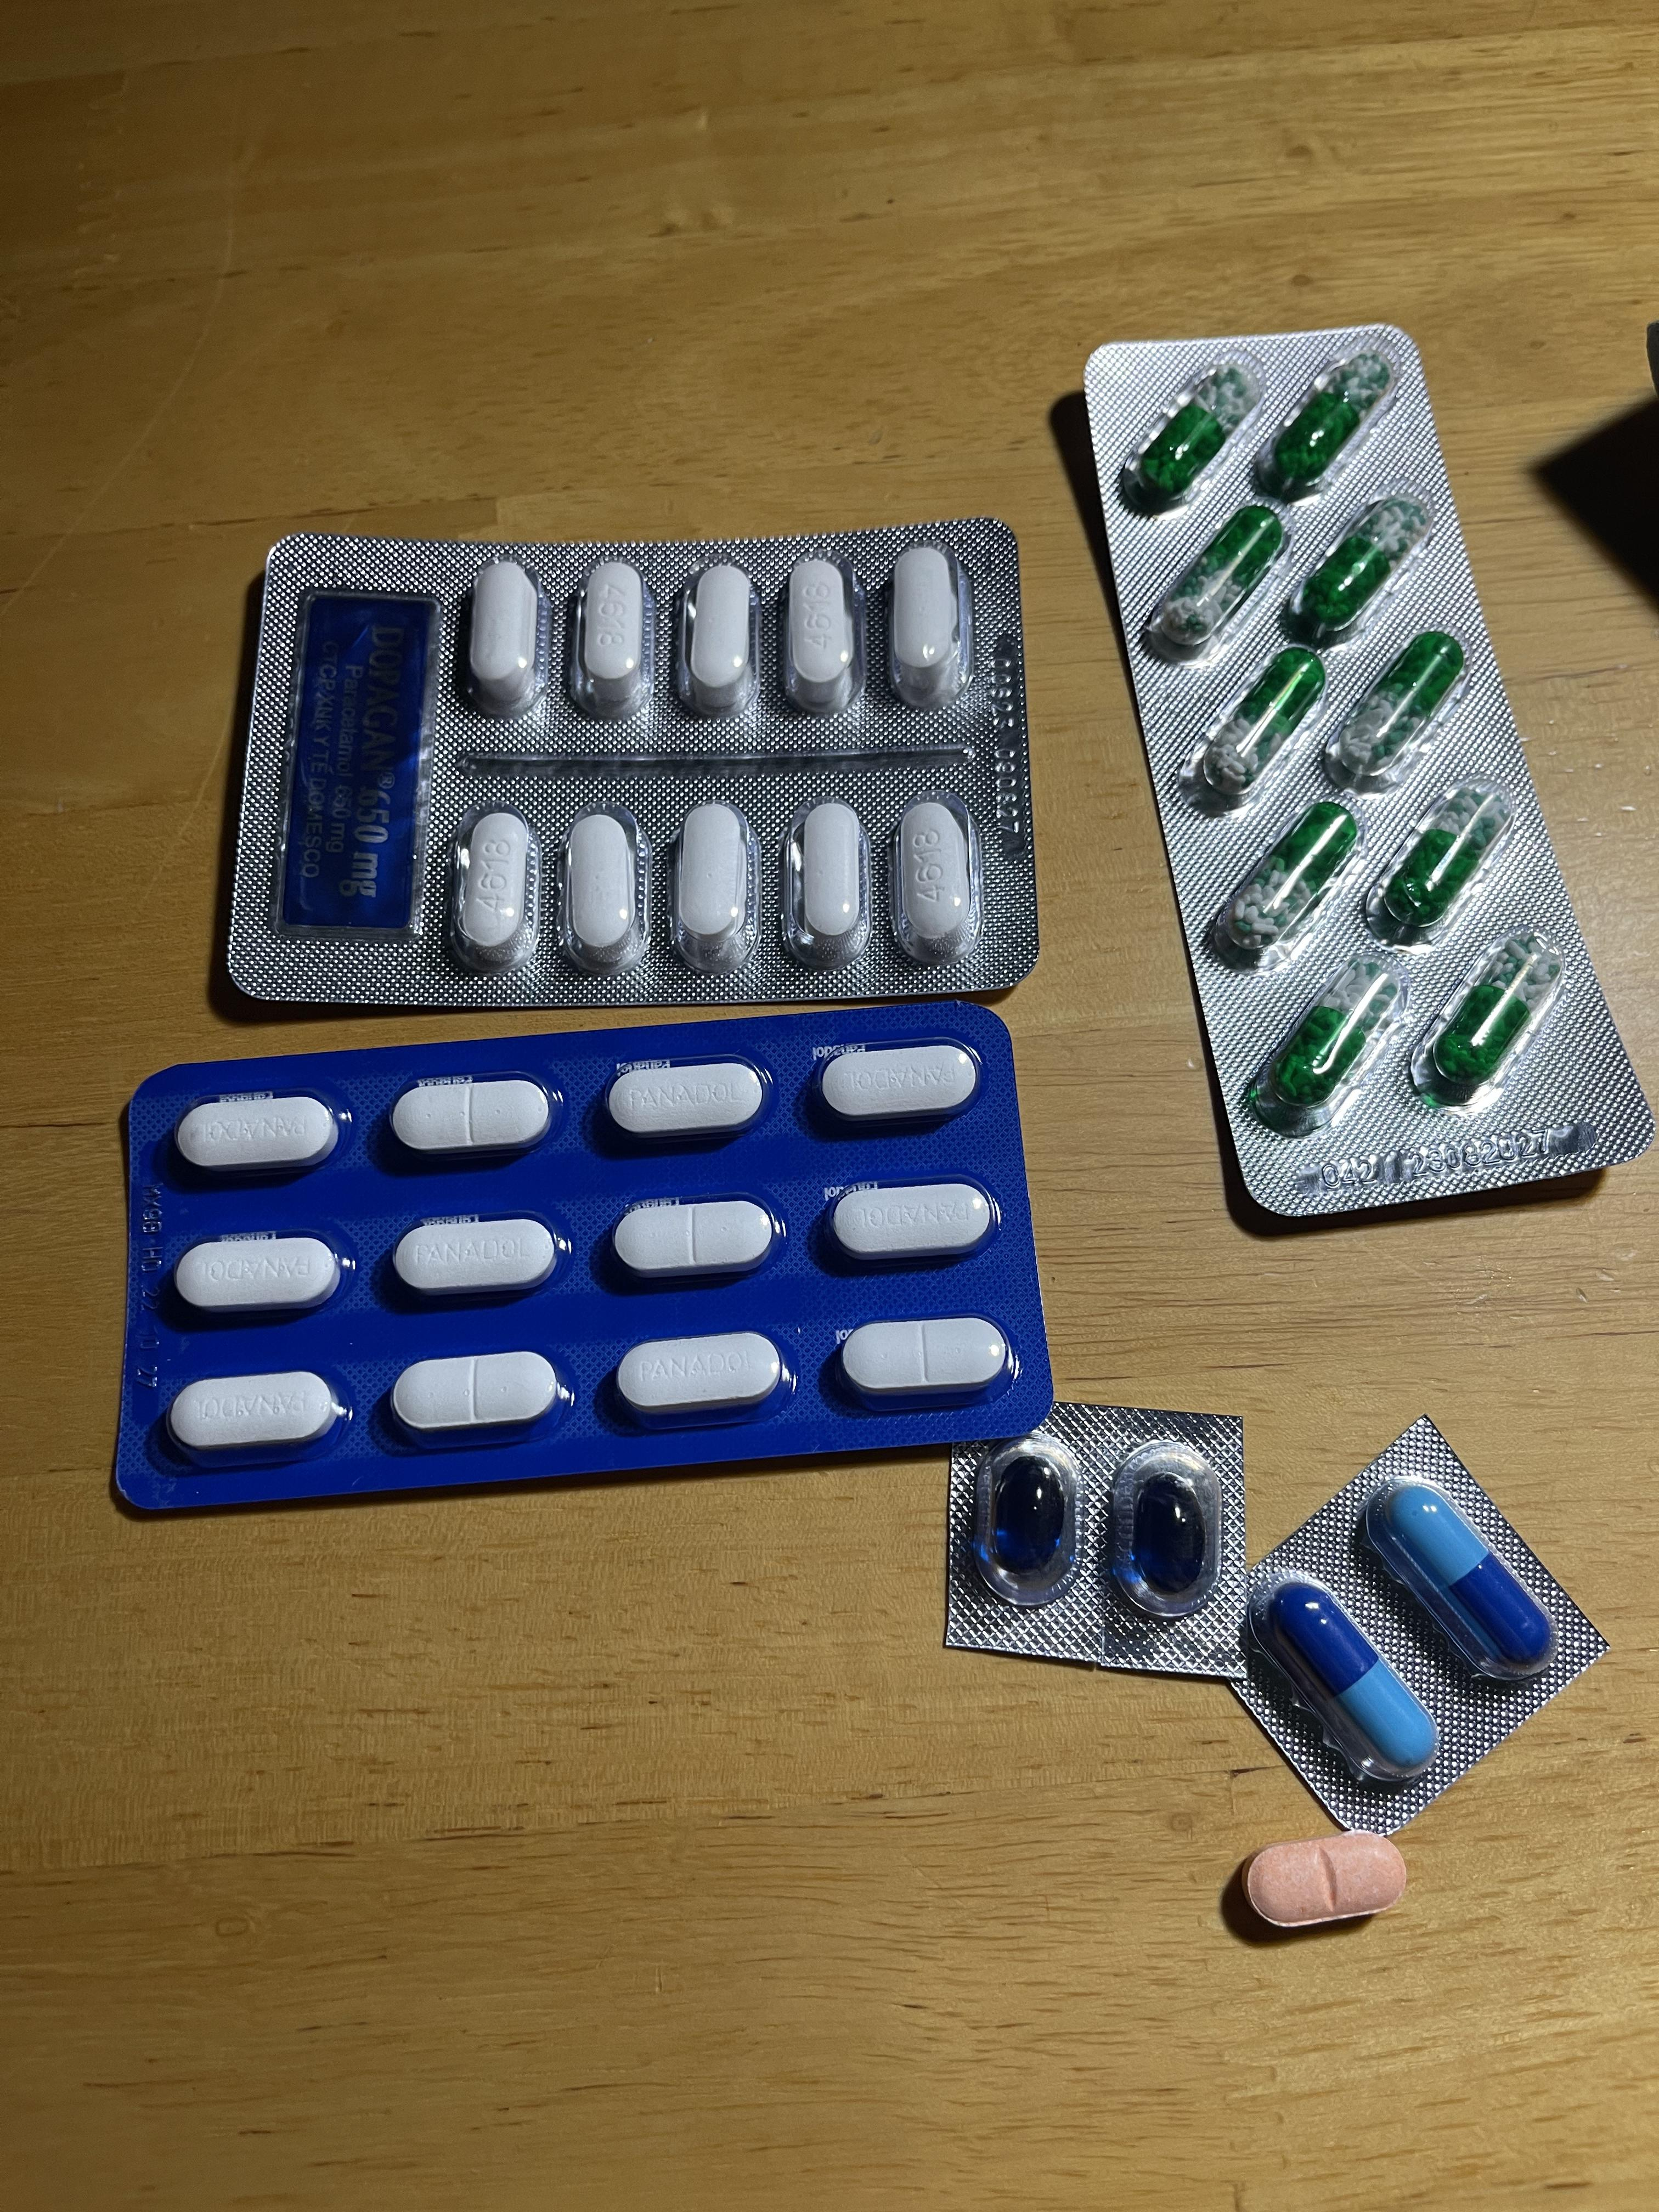Lincomyxin_500mg: (1133, 1474, 1206, 1594), (992, 1460, 1066, 1573)
Loratadine_10mg: (1241, 1831, 1408, 1928)
Paracetamol_350mg: (619, 1331, 788, 1423), (840, 1315, 1011, 1406), (171, 1371, 342, 1458), (615, 1195, 782, 1280), (394, 1352, 558, 1439), (174, 1231, 343, 1315), (828, 1181, 997, 1263), (817, 1042, 981, 1125), (174, 1092, 340, 1174), (606, 1059, 770, 1141), (396, 1216, 556, 1298), (392, 1076, 552, 1158)
Paracetamol_500mg: (446, 810, 540, 970), (671, 803, 758, 974), (894, 798, 979, 968), (572, 561, 652, 718), (889, 547, 964, 709), (784, 559, 861, 712), (469, 561, 544, 714), (685, 564, 755, 707), (566, 812, 633, 953), (802, 801, 866, 946)
Paracetamol_650mg: (1243, 949, 1408, 1137), (1406, 928, 1563, 1109), (1363, 777, 1518, 944), (1215, 796, 1366, 963), (1283, 486, 1434, 648), (1117, 348, 1262, 516), (1326, 632, 1473, 794), (1260, 345, 1403, 505), (1141, 505, 1284, 662), (1194, 643, 1333, 803)
pill: (1267, 1578, 1434, 1778), (1378, 1480, 1547, 1670)
